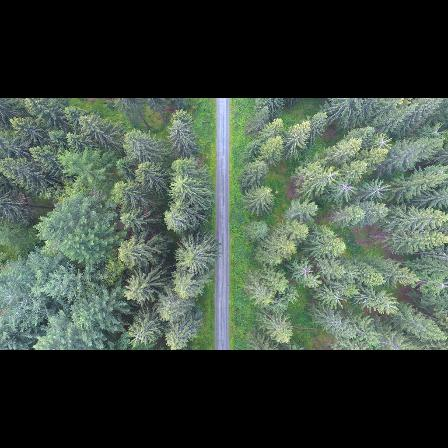Sick: (290, 258, 320, 284), (333, 176, 358, 201), (365, 177, 390, 201), (371, 133, 395, 153)
